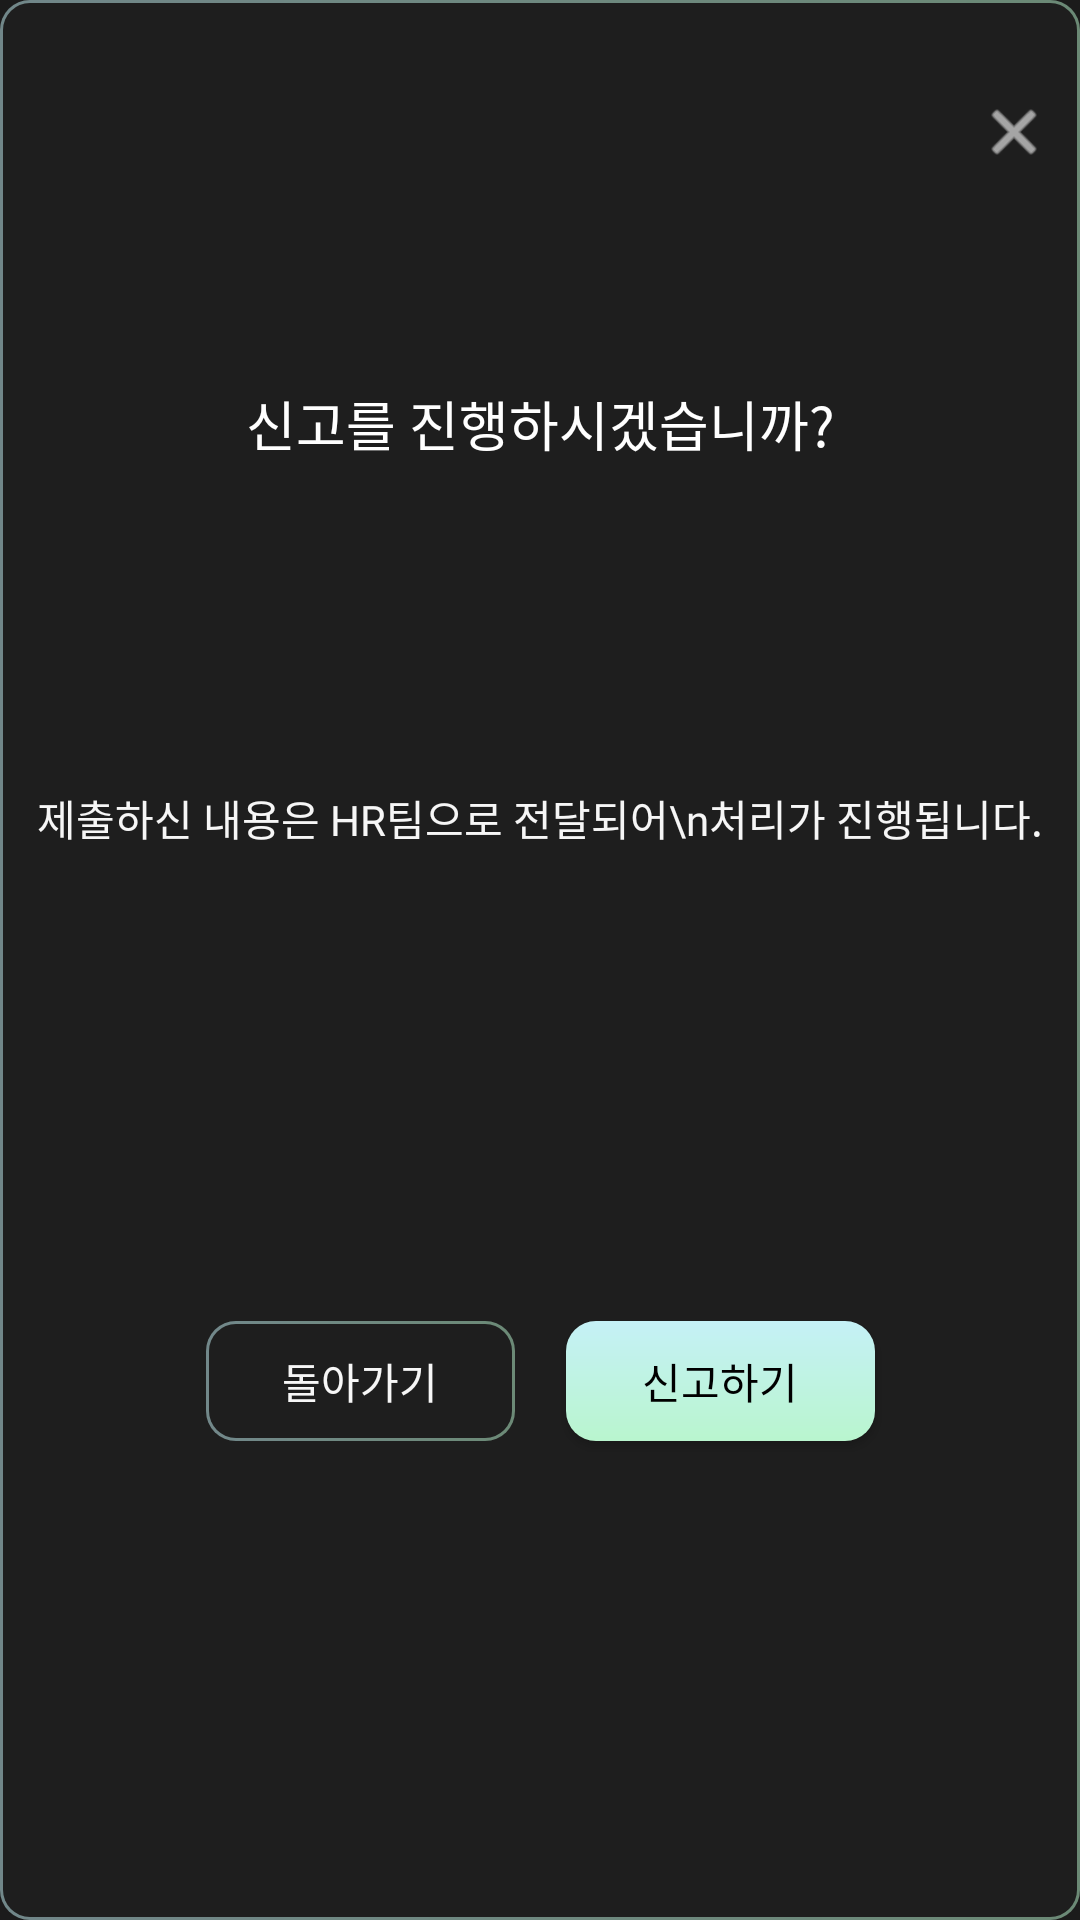

Locate icon controls on the screen. Image size 1080px x 1920px, boxes as [x1, y1, x2, y2].
close clear cancel: [991, 109, 1037, 155]
